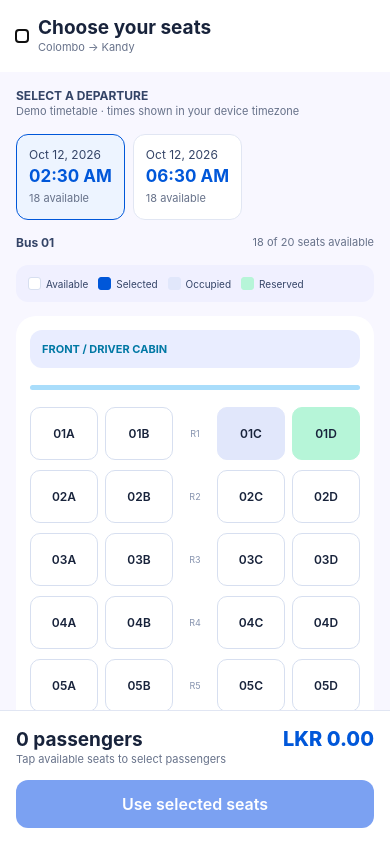
Test case: changing bus departure clears seats and refresh removes newly unavailable selections
Click the checkbox labelled "01A": (64, 434) [30,407,98,460]
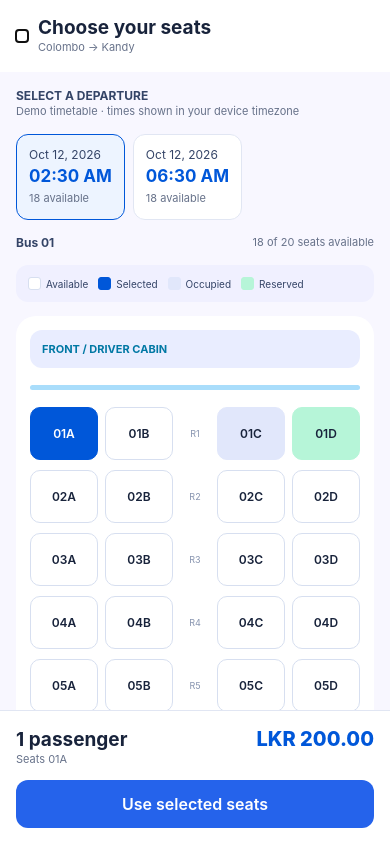
Click the radio button labelled "Oct 12, 2026 06:30 AM 18 available": (187, 177) [133,134,242,220]
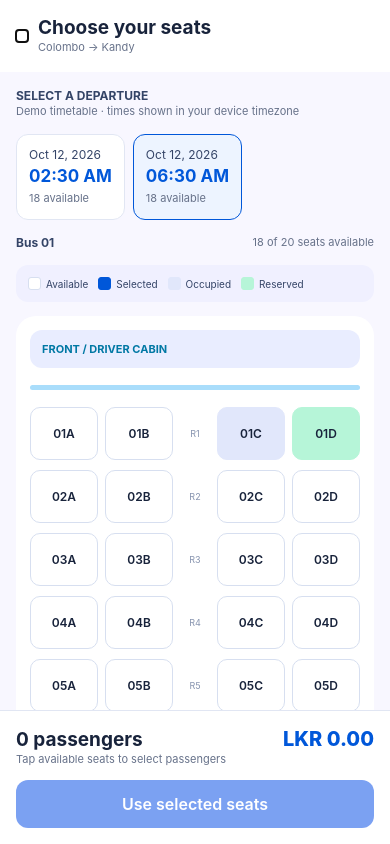
Now the button "Use selected seats" is disabled, box [16,780,374,828]
Click the checkbox labelled "01A": (64, 434) [30,407,98,460]
Wait 15000 ms
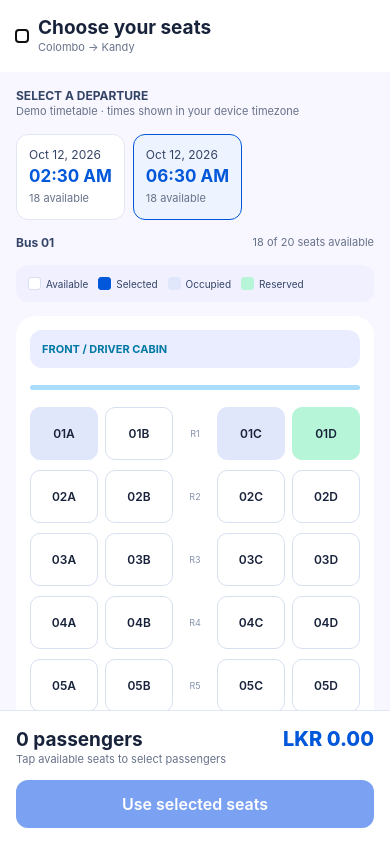
Now the button "Use selected seats" is disabled, box [16,780,374,828]
Now the checkbox labelled "01A" is disabled, box [30,407,98,460]
